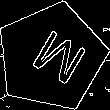M_SW: (18, 24, 84, 90)
